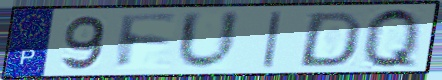9: (59, 13, 108, 71)
D: (294, 10, 366, 69)
F: (115, 12, 180, 71)
I: (260, 9, 285, 71)
Q: (363, 6, 422, 71)
U: (174, 9, 244, 72)
